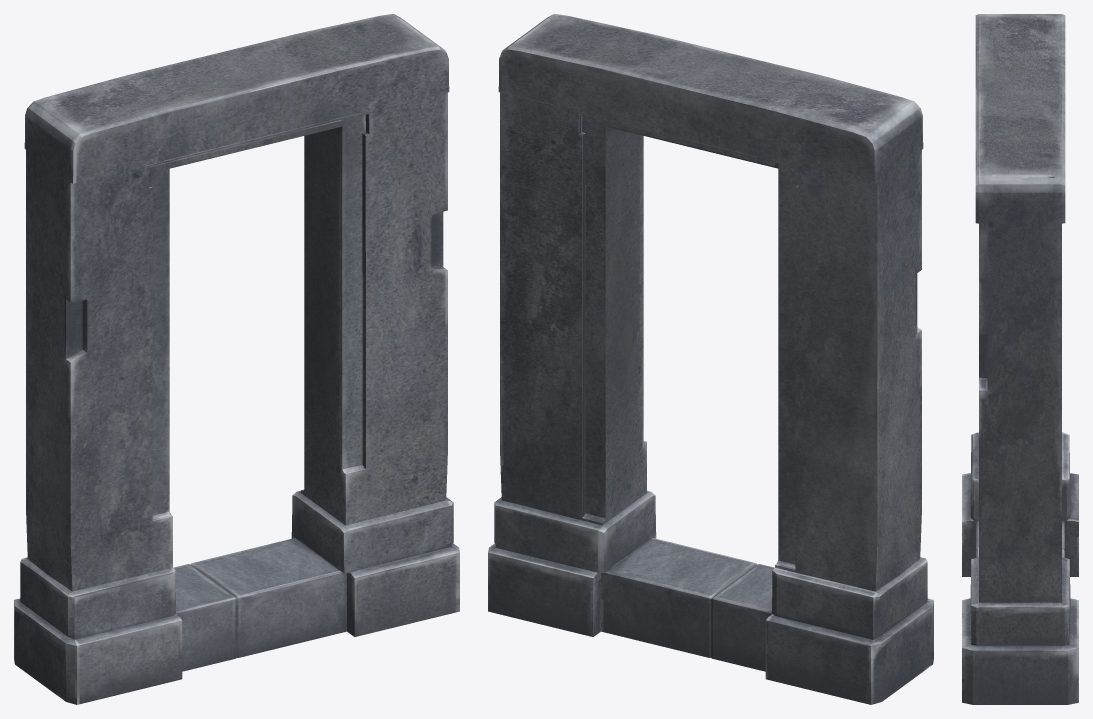
The model's file is PuertaDeLaLuna.fbx.
3 views of the same model, side by side, from view 1: azimuth 30°, elevation 25°; view 2: azimuth 150°, elevation 25°; view 3: azimuth 270°, elevation 25° (orthographic). The views are drawn at different scales.
Visible parts, largest first — view 1: Cube; view 2: Cube; view 3: Cube.
Part boxes in pixels (bbox=[...]): Cube: bbox=[14, 14, 459, 704]; Cube: bbox=[488, 14, 933, 704]; Cube: bbox=[962, 14, 1078, 704].
Size of the model in its own units: 372 by 511 by 103.
Materials: 1 (1 with a texture image).
